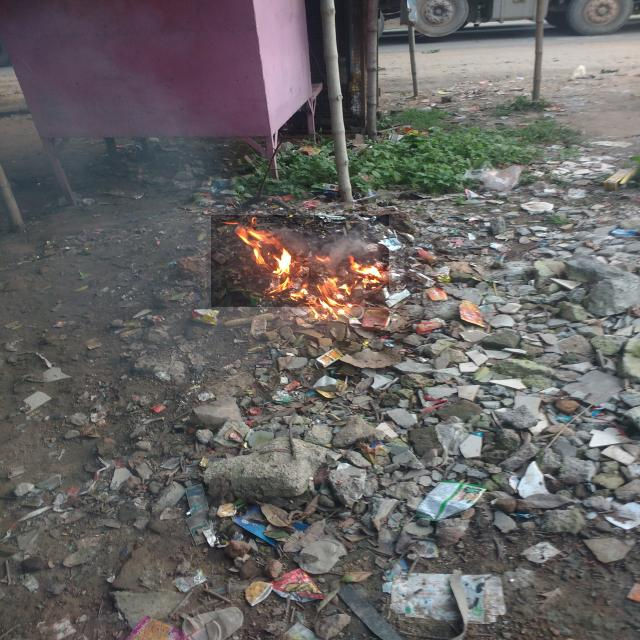Fire: (211, 215, 389, 307)
